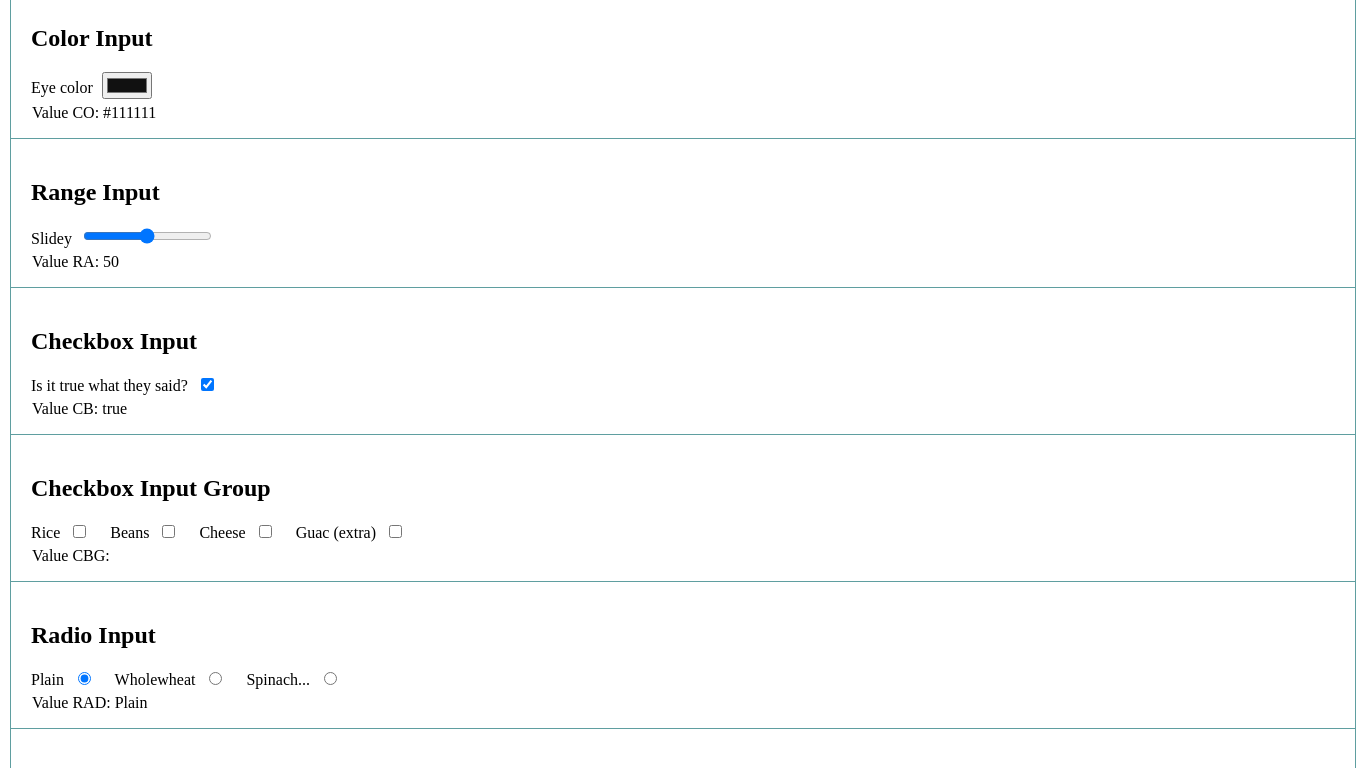
Scenario: updating Checkbox inputs should work
(page scrolled)
Click the checkbox labelled "Is it true what they said?".
click(207, 384)  # box x1=201 y1=378 x2=214 y2=391
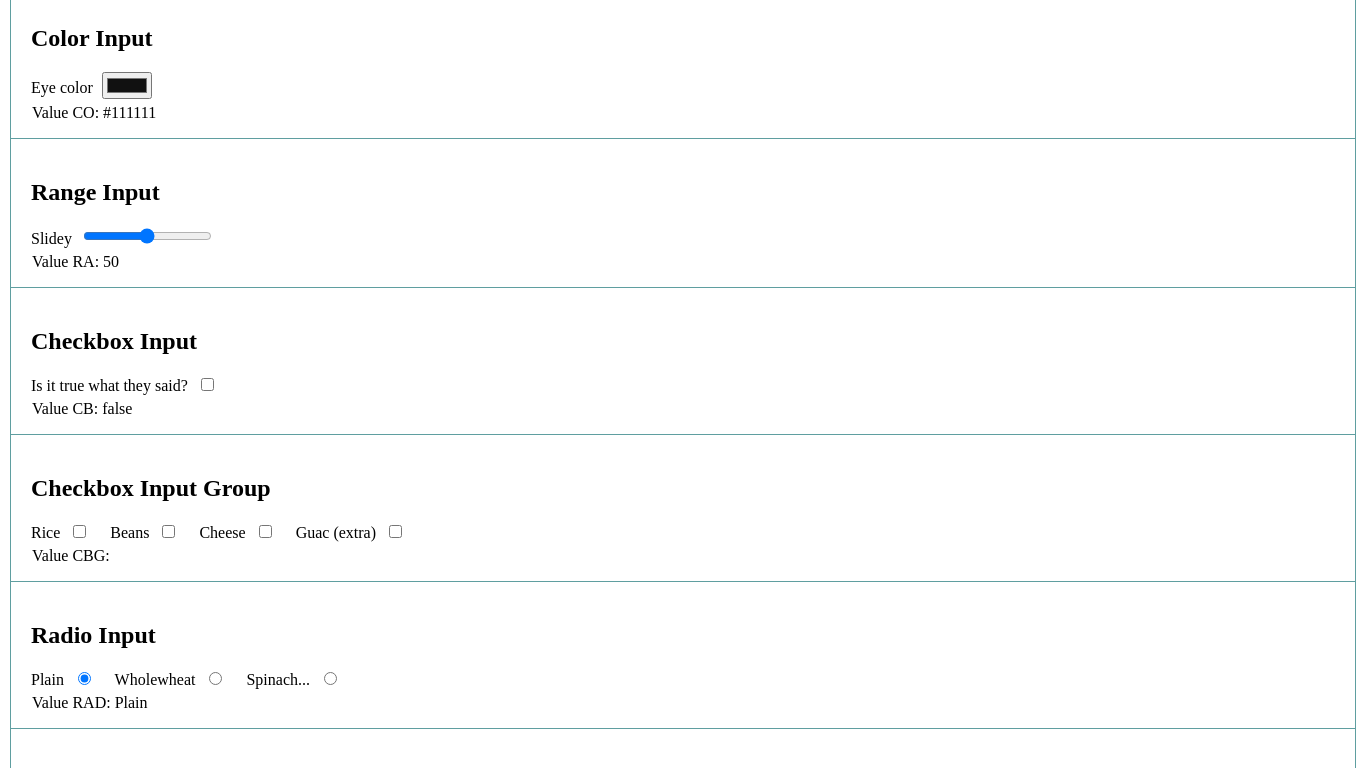
Check: the text "Value CB: false" is shown, box x1=32 y1=400 x2=132 y2=417
